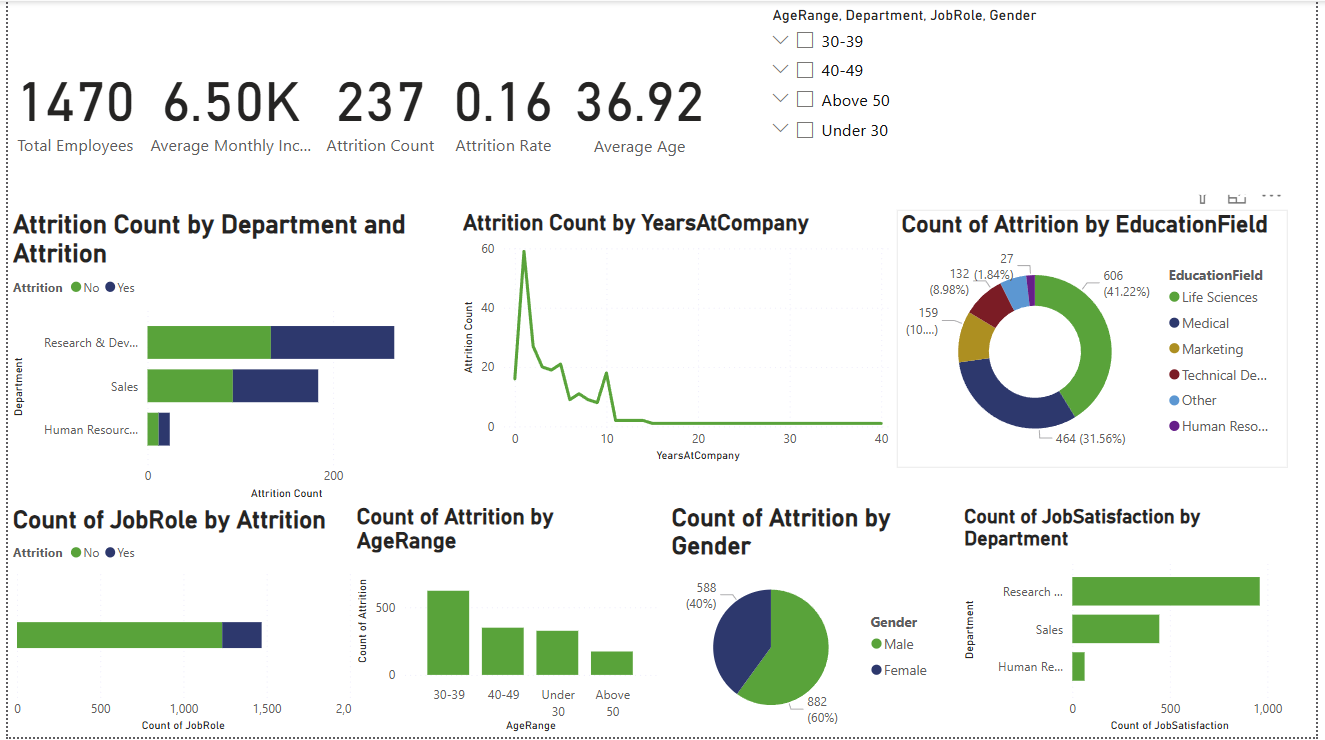

This screenshot's page, from the dashboard's own definition file:
{"tool":"powerbi","page":{"name":"Page 1","canvas":[1280,720],"ordinal":0},"visuals":[{"type":"card","fields":{"Values":["HRData.Attrition Count"]},"box":[304.5,44,119.8,116.2],"z":0},{"type":"card","fields":{"Values":["HRData.Attrition Rate"]},"box":[424.3,37.9,121.1,128.4],"z":1000},{"type":"card","fields":{"Values":["HRData.Average Age"]},"box":[545.4,35.5,145.5,134.5],"z":2000},{"type":"card","fields":{"Values":["HRData.Average Monthly Income"]},"box":[132.1,37.9,172.4,128.4],"z":3000},{"type":"card","fields":{"Values":["HRData.Total Employees"]},"box":[0,0,132.1,204.2],"z":4000},{"type":"barChart","fields":{"Category":["HRData.Department"],"Y":["HRData.Attrition Count"],"Series":["HRData.Attrition"]},"box":[0,204.2,424.3,288.6],"z":5000},{"type":"lineChart","fields":{"Y":["HRData.Attrition Count"],"Category":["HRData.YearsAtCompany"]},"box":[440.2,204.2,429.2,251.9],"z":6000},{"type":"barChart","fields":{"Y":["CountNonNull(HRData.JobRole)"],"Series":["HRData.Attrition"]},"box":[0,492.8,354.6,227.4],"z":7000},{"type":"pieChart","fields":{"Category":["HRData.Gender"],"Y":["CountNonNull(HRData.Attrition)"]},"box":[644.4,491.6,270.2,227.4],"z":8000},{"type":"donutChart","fields":{"Y":["CountNonNull(HRData.Attrition)"],"Category":["HRData.EducationField"]},"box":[869.4,204.2,382.7,251.9],"z":9000},{"type":"barChart","fields":{"Category":["HRData.Department"],"Y":["CountNonNull(HRData.JobSatisfaction)"]},"box":[930.6,492.8,321.6,227.4],"z":10000},{"type":"slicer","fields":{"Values":["HRData.AgeRange","HRData.Department","HRData.JobRole","HRData.Gender"]},"box":[734.9,0,528.3,189.5],"z":11000},{"type":"columnChart","fields":{"Category":["HRData.AgeRange"],"Y":["CountNonNull(HRData.Attrition)"]},"box":[336.3,491.6,303.3,228.7],"z":12000}]}

Visuals, with their boxes in screenshot pixels (x1, y1, x2, y2), scaled from the page's 1280x720 canvas onto the 1325x740 screenshot:
card - HRData.Attrition Count: <box>315,45,439,165</box>
card - HRData.Attrition Rate: <box>439,39,565,171</box>
card - HRData.Average Age: <box>565,36,715,175</box>
card - HRData.Average Monthly Income: <box>137,39,315,171</box>
card - HRData.Total Employees: <box>0,0,137,210</box>
barChart - HRData.Department x HRData.Attrition Count: <box>0,210,439,506</box>
lineChart - HRData.Attrition Count x HRData.YearsAtCompany: <box>456,210,900,469</box>
barChart - CountNonNull(HRData.JobRole) x HRData.Attrition: <box>0,506,367,739</box>
pieChart - HRData.Gender x CountNonNull(HRData.Attrition): <box>667,505,947,739</box>
donutChart - CountNonNull(HRData.Attrition) x HRData.EducationField: <box>900,210,1296,469</box>
barChart - HRData.Department x CountNonNull(HRData.JobSatisfaction): <box>963,506,1296,739</box>
slicer - HRData.AgeRange x HRData.Department: <box>761,0,1308,195</box>
columnChart - HRData.AgeRange x CountNonNull(HRData.Attrition): <box>348,505,662,739</box>
